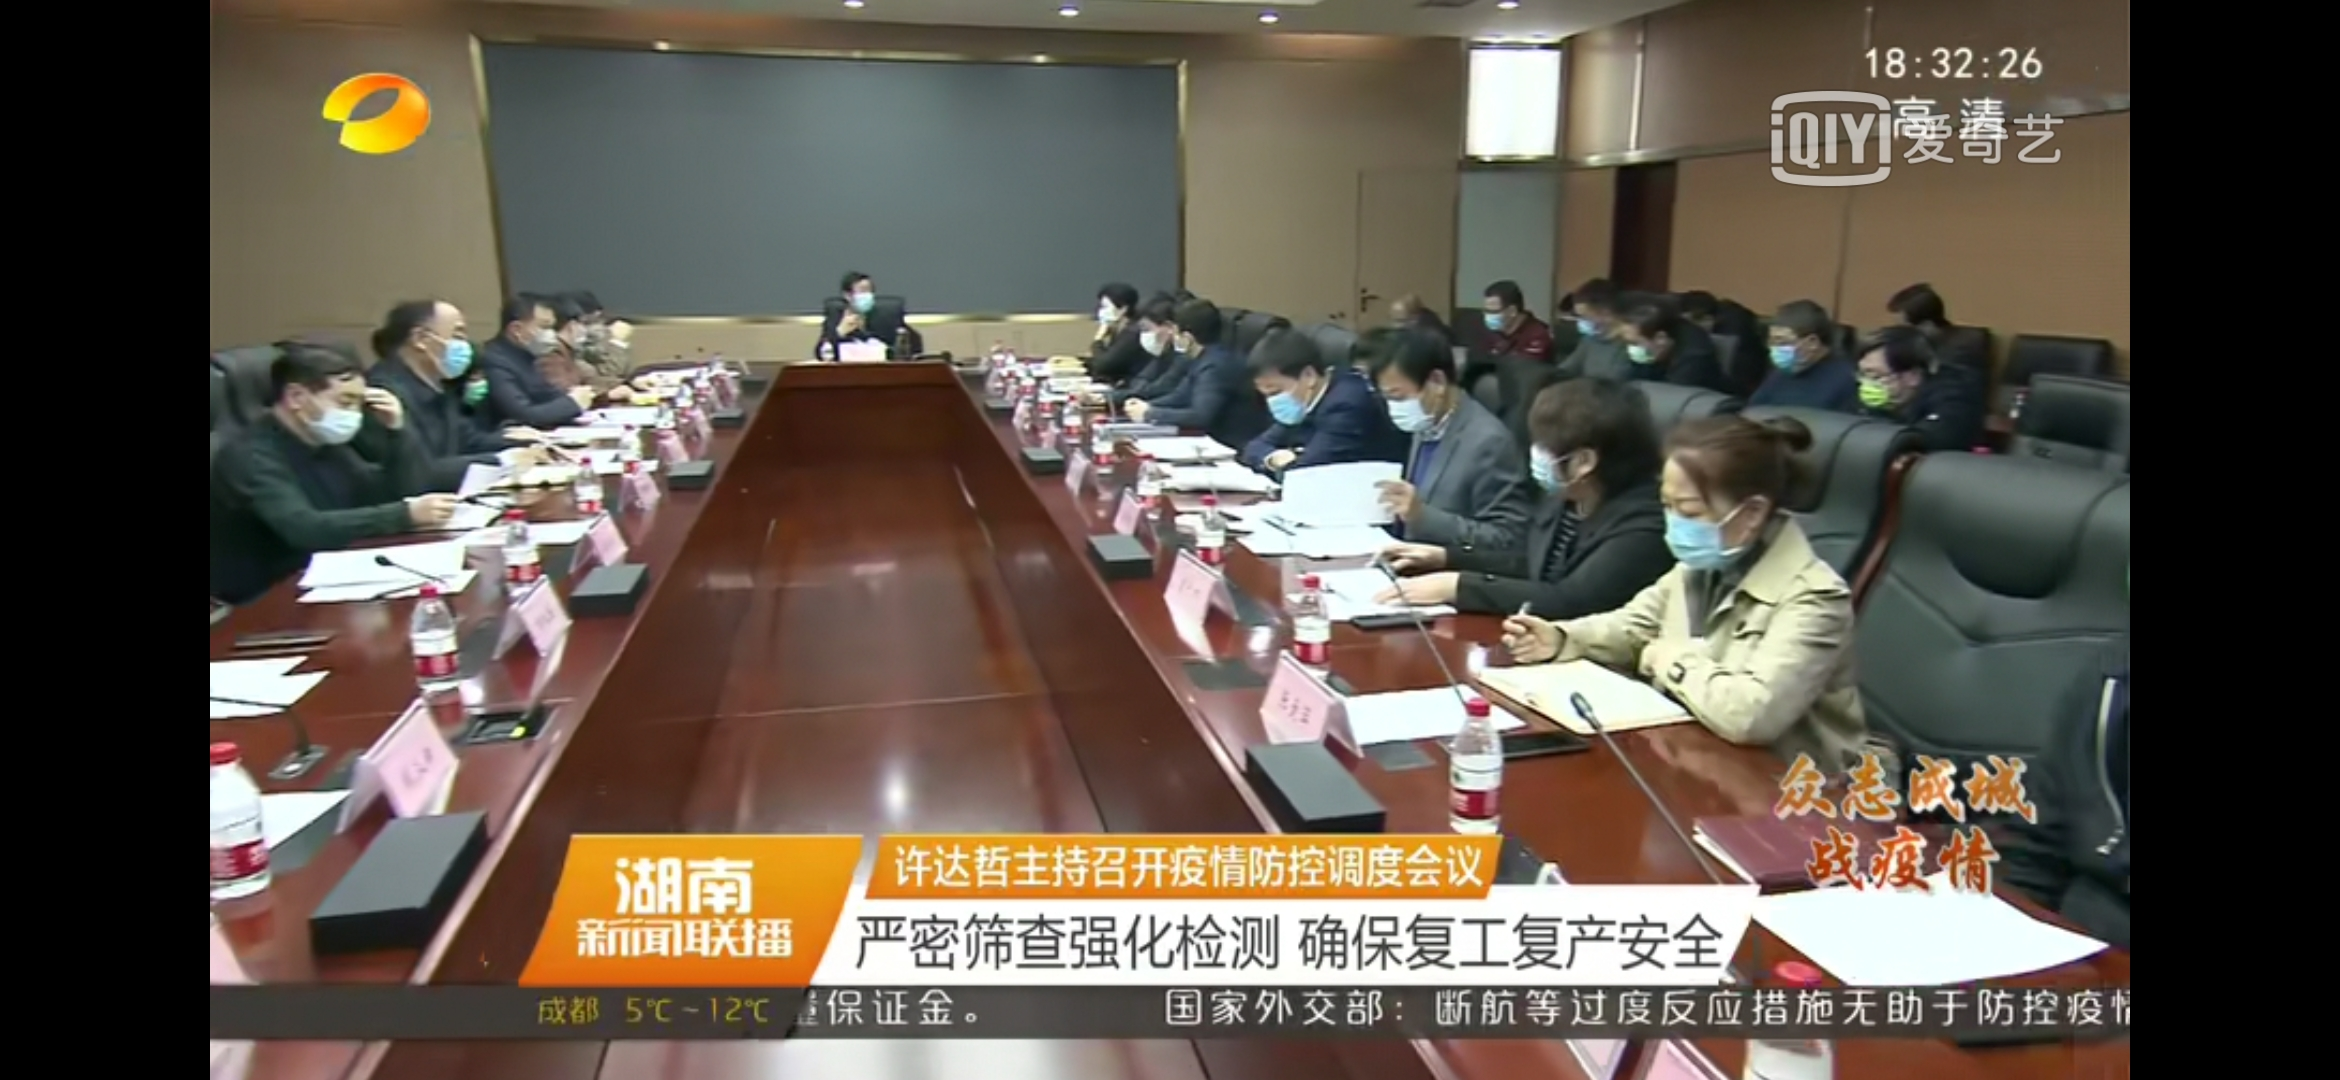correctlyWear: (1655, 474, 1768, 571), (279, 371, 367, 459), (1527, 437, 1601, 507), (1379, 370, 1454, 439), (1260, 365, 1327, 430), (413, 324, 475, 386), (1853, 360, 1925, 412), (1765, 327, 1822, 371), (510, 310, 558, 357), (1624, 330, 1674, 371), (1483, 301, 1527, 336), (1139, 321, 1171, 360), (845, 277, 877, 315), (1098, 292, 1130, 330), (1576, 307, 1612, 339)
